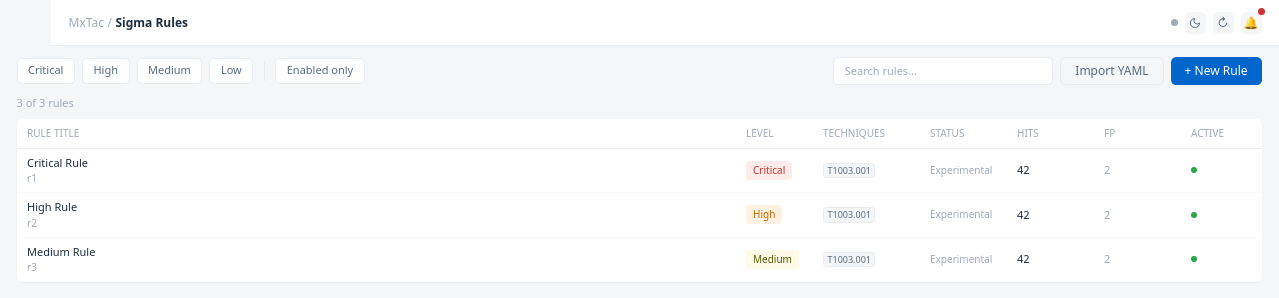
Test: RulesPage › level filter › hides rules that do not match the selected level
The width and height of the screenshot is (1279, 298).
Expected: the text "Critical Rule" is shown, [27, 154, 88, 170]
Click the button "critical" at (46, 70), box [16, 58, 75, 84]
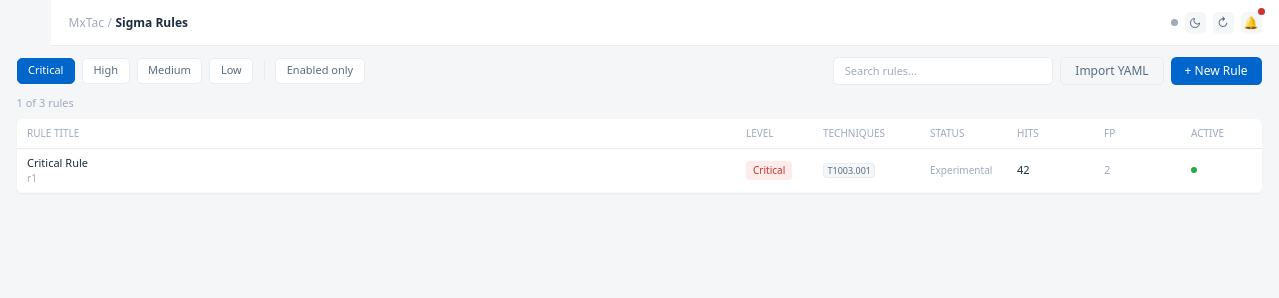
Expected: the text "Critical Rule" is shown, [27, 154, 88, 170]
Result: the button "High Rule" is gone
Result: the button "Medium Rule" is gone
